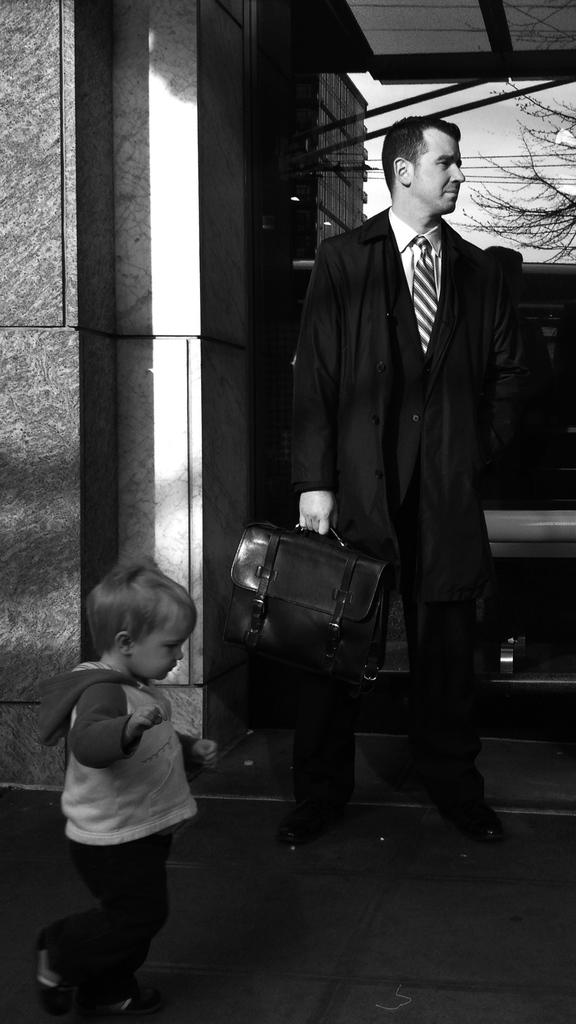Luggage-and-bags: (215, 513, 390, 704)
